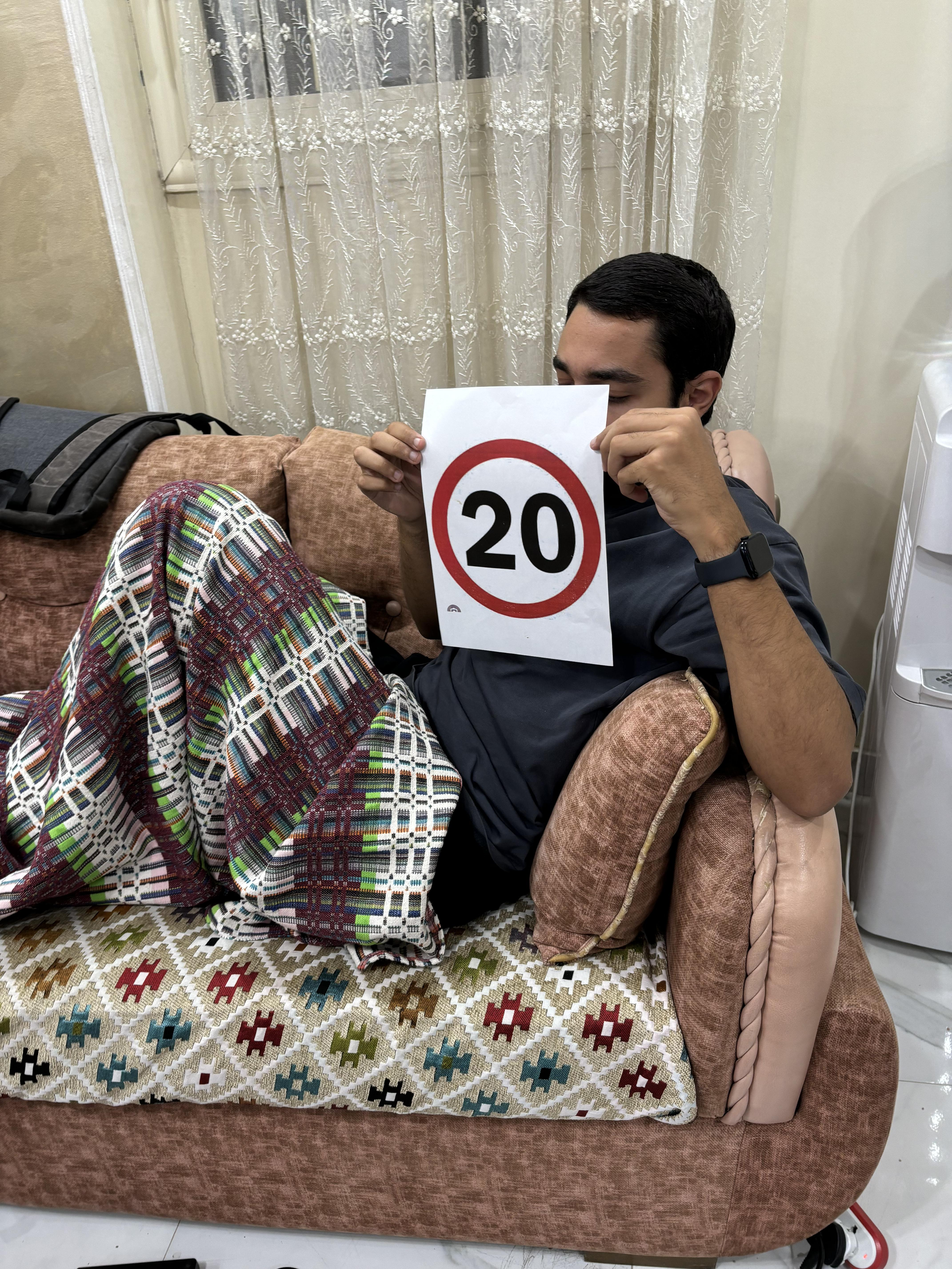20-Speed: (418, 423, 609, 618)
